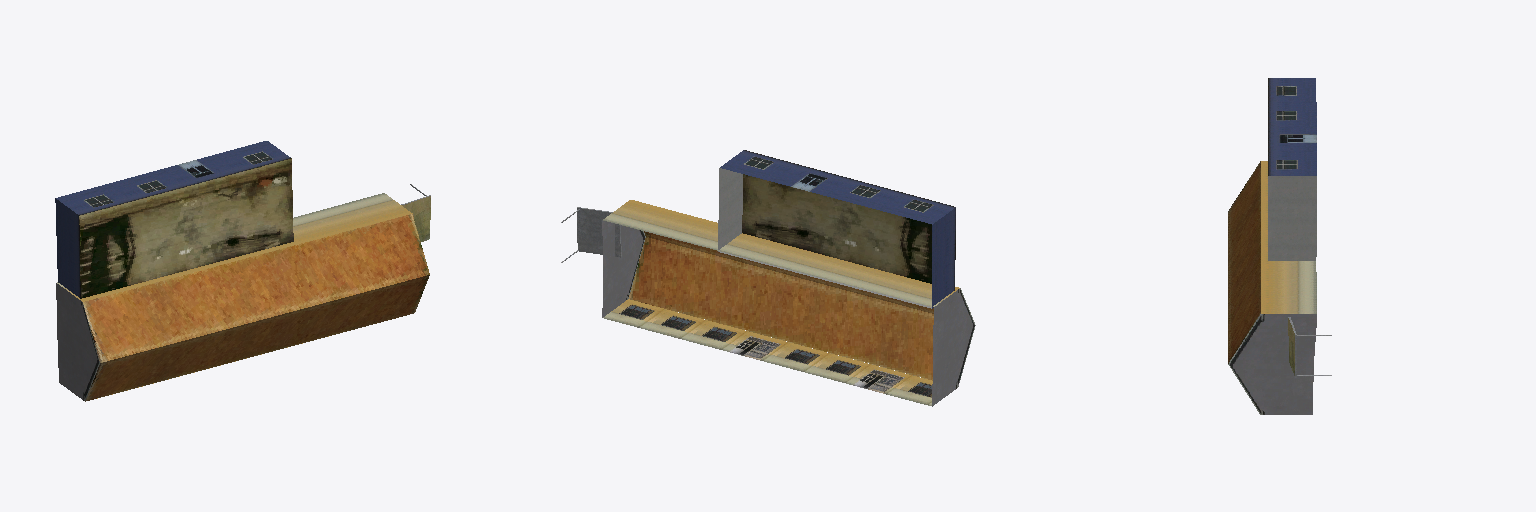
The picture shows the model from 3 angles: view 1: azimuth 30°, elevation 25°; view 2: azimuth 150°, elevation 25°; view 3: azimuth 270°, elevation 25°; orthographic projection.
Parts seen in each view (by area): view 1: Group_MatrixTransform_i96031_Geometry_7, Group_MatrixTransform_i96031_Geometry_6, Group_MatrixTransform_i96031_Geometry_2, Group_MatrixTransform_i96031_Geometry_5, Group_MatrixTransform_i96031_Geometry_3, Group_MatrixTransform_i96031_Geometry_1, Group_MatrixTransform_i96031_Geometry_0, Group_MatrixTransform_i96031_Geometry_4; view 2: Group_MatrixTransform_i96031_Geometry_7, Group_MatrixTransform_i96031_Geometry_6, Group_MatrixTransform_i96031_Geometry_5, Group_MatrixTransform_i96031_Geometry_9, Group_MatrixTransform_i96031_Geometry_3, Group_MatrixTransform_i96031_Geometry_2, Group_MatrixTransform_i96031_Geometry_8, Group_MatrixTransform_i96031_Geometry_10, Group_MatrixTransform_i96031_Geometry_1, Group_MatrixTransform_i96031_Geometry_11, Group_MatrixTransform_i96031_Geometry_0; view 3: Group_MatrixTransform_i96031_Geometry_3, Group_MatrixTransform_i96031_Geometry_7, Group_MatrixTransform_i96031_Geometry_10, Group_MatrixTransform_i96031_Geometry_5, Group_MatrixTransform_i96031_Geometry_2, Group_MatrixTransform_i96031_Geometry_0.
Part boxes in pixels (bbox=[...]): Group_MatrixTransform_i96031_Geometry_7: bbox=[83, 214, 429, 401]; Group_MatrixTransform_i96031_Geometry_6: bbox=[79, 158, 293, 298]; Group_MatrixTransform_i96031_Geometry_2: bbox=[56, 141, 290, 215]; Group_MatrixTransform_i96031_Geometry_5: bbox=[57, 193, 412, 301]; Group_MatrixTransform_i96031_Geometry_3: bbox=[56, 283, 99, 400]; Group_MatrixTransform_i96031_Geometry_1: bbox=[55, 198, 80, 298]; Group_MatrixTransform_i96031_Geometry_0: bbox=[162, 155, 237, 186]; Group_MatrixTransform_i96031_Geometry_4: bbox=[402, 196, 430, 241]; Group_MatrixTransform_i96031_Geometry_7: bbox=[629, 231, 933, 380]; Group_MatrixTransform_i96031_Geometry_6: bbox=[742, 174, 931, 283]; Group_MatrixTransform_i96031_Geometry_5: bbox=[603, 200, 959, 306]; Group_MatrixTransform_i96031_Geometry_9: bbox=[603, 299, 932, 405]; Group_MatrixTransform_i96031_Geometry_3: bbox=[602, 220, 975, 406]; Group_MatrixTransform_i96031_Geometry_2: bbox=[720, 150, 955, 224]; Group_MatrixTransform_i96031_Geometry_8: bbox=[727, 332, 916, 395]; Group_MatrixTransform_i96031_Geometry_10: bbox=[718, 168, 931, 308]; Group_MatrixTransform_i96031_Geometry_1: bbox=[932, 208, 955, 308]; Group_MatrixTransform_i96031_Geometry_11: bbox=[561, 207, 621, 262]; Group_MatrixTransform_i96031_Geometry_0: bbox=[773, 164, 849, 195]; Group_MatrixTransform_i96031_Geometry_3: bbox=[1228, 314, 1316, 414]; Group_MatrixTransform_i96031_Geometry_7: bbox=[1228, 161, 1260, 363]; Group_MatrixTransform_i96031_Geometry_10: bbox=[1268, 176, 1316, 260]; Group_MatrixTransform_i96031_Geometry_5: bbox=[1261, 161, 1316, 313]; Group_MatrixTransform_i96031_Geometry_2: bbox=[1268, 78, 1316, 175]; Group_MatrixTransform_i96031_Geometry_0: bbox=[1268, 127, 1316, 150].
Bounding box in the file's own units: 33.73 × 16.68 × 8.28.
Materials: 12 (12 with a texture image).